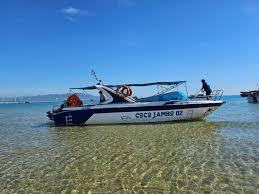Ship: (43, 78, 235, 127)
